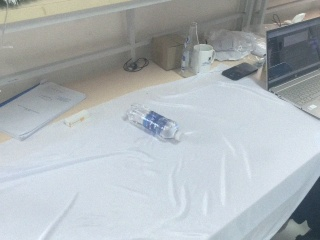bottle: (124, 103, 184, 142), (181, 22, 200, 74)
cup: (191, 44, 216, 74)
phone: (221, 62, 258, 81)
